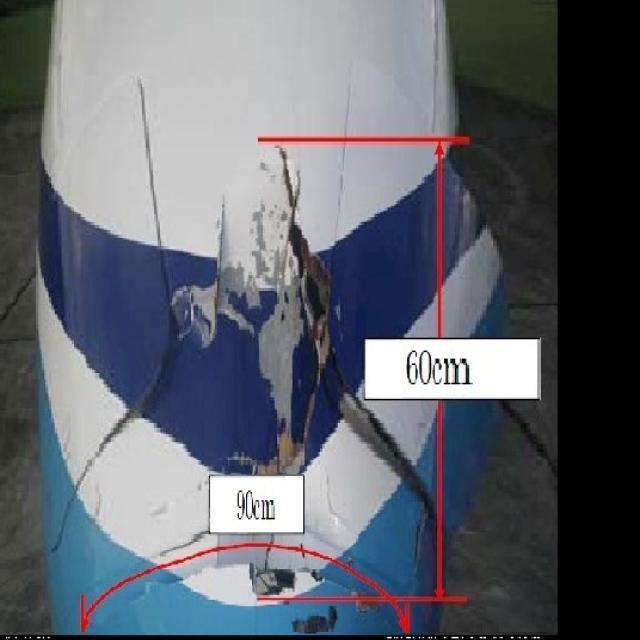crack: (192, 188, 232, 341)
